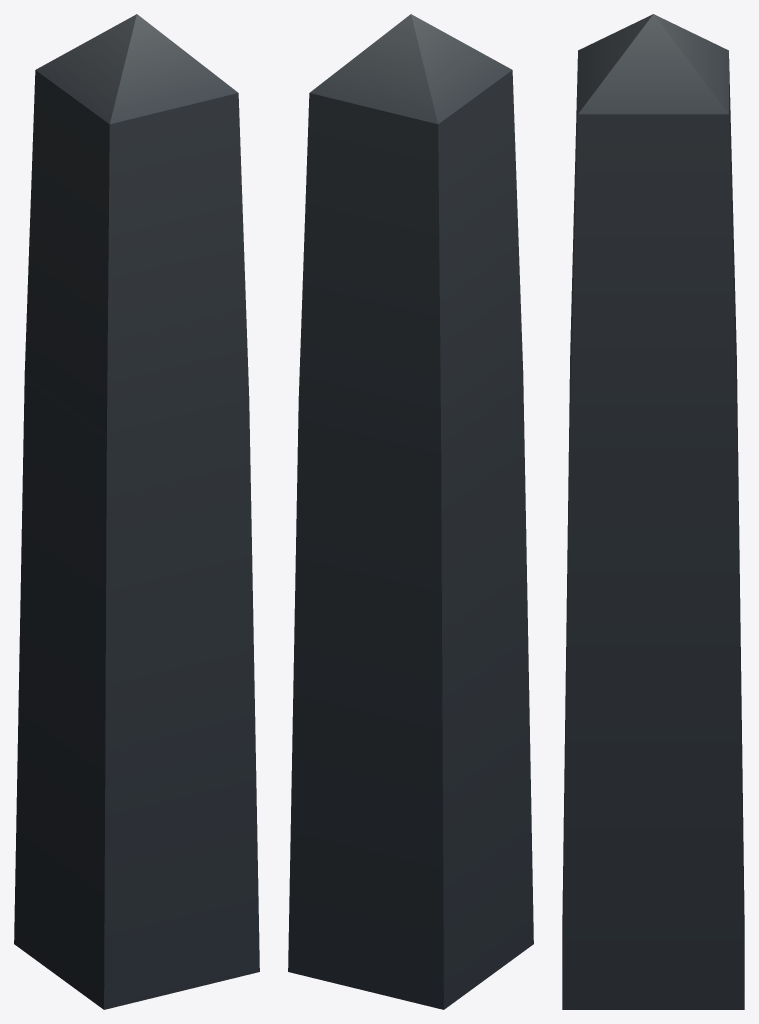
File: Fence_Column_Iron_Short_01.fbx
The picture shows the model from 3 angles, left to right: view 1: azimuth 30°, elevation 25°; view 2: azimuth 150°, elevation 25°; view 3: azimuth 270°, elevation 25°; orthographic projection.
Visible parts, largest first — view 1: Fence_Column_Iron_Short_01; view 2: Fence_Column_Iron_Short_01; view 3: Fence_Column_Iron_Short_01.
Boxes of the visible parts, x1,y1,x2,y2 form: Fence_Column_Iron_Short_01: (14,14,259,1009); Fence_Column_Iron_Short_01: (288,14,533,1009); Fence_Column_Iron_Short_01: (562,14,744,1009).
Bounding box in the file's own units: 24.18 × 140 × 24.18.
